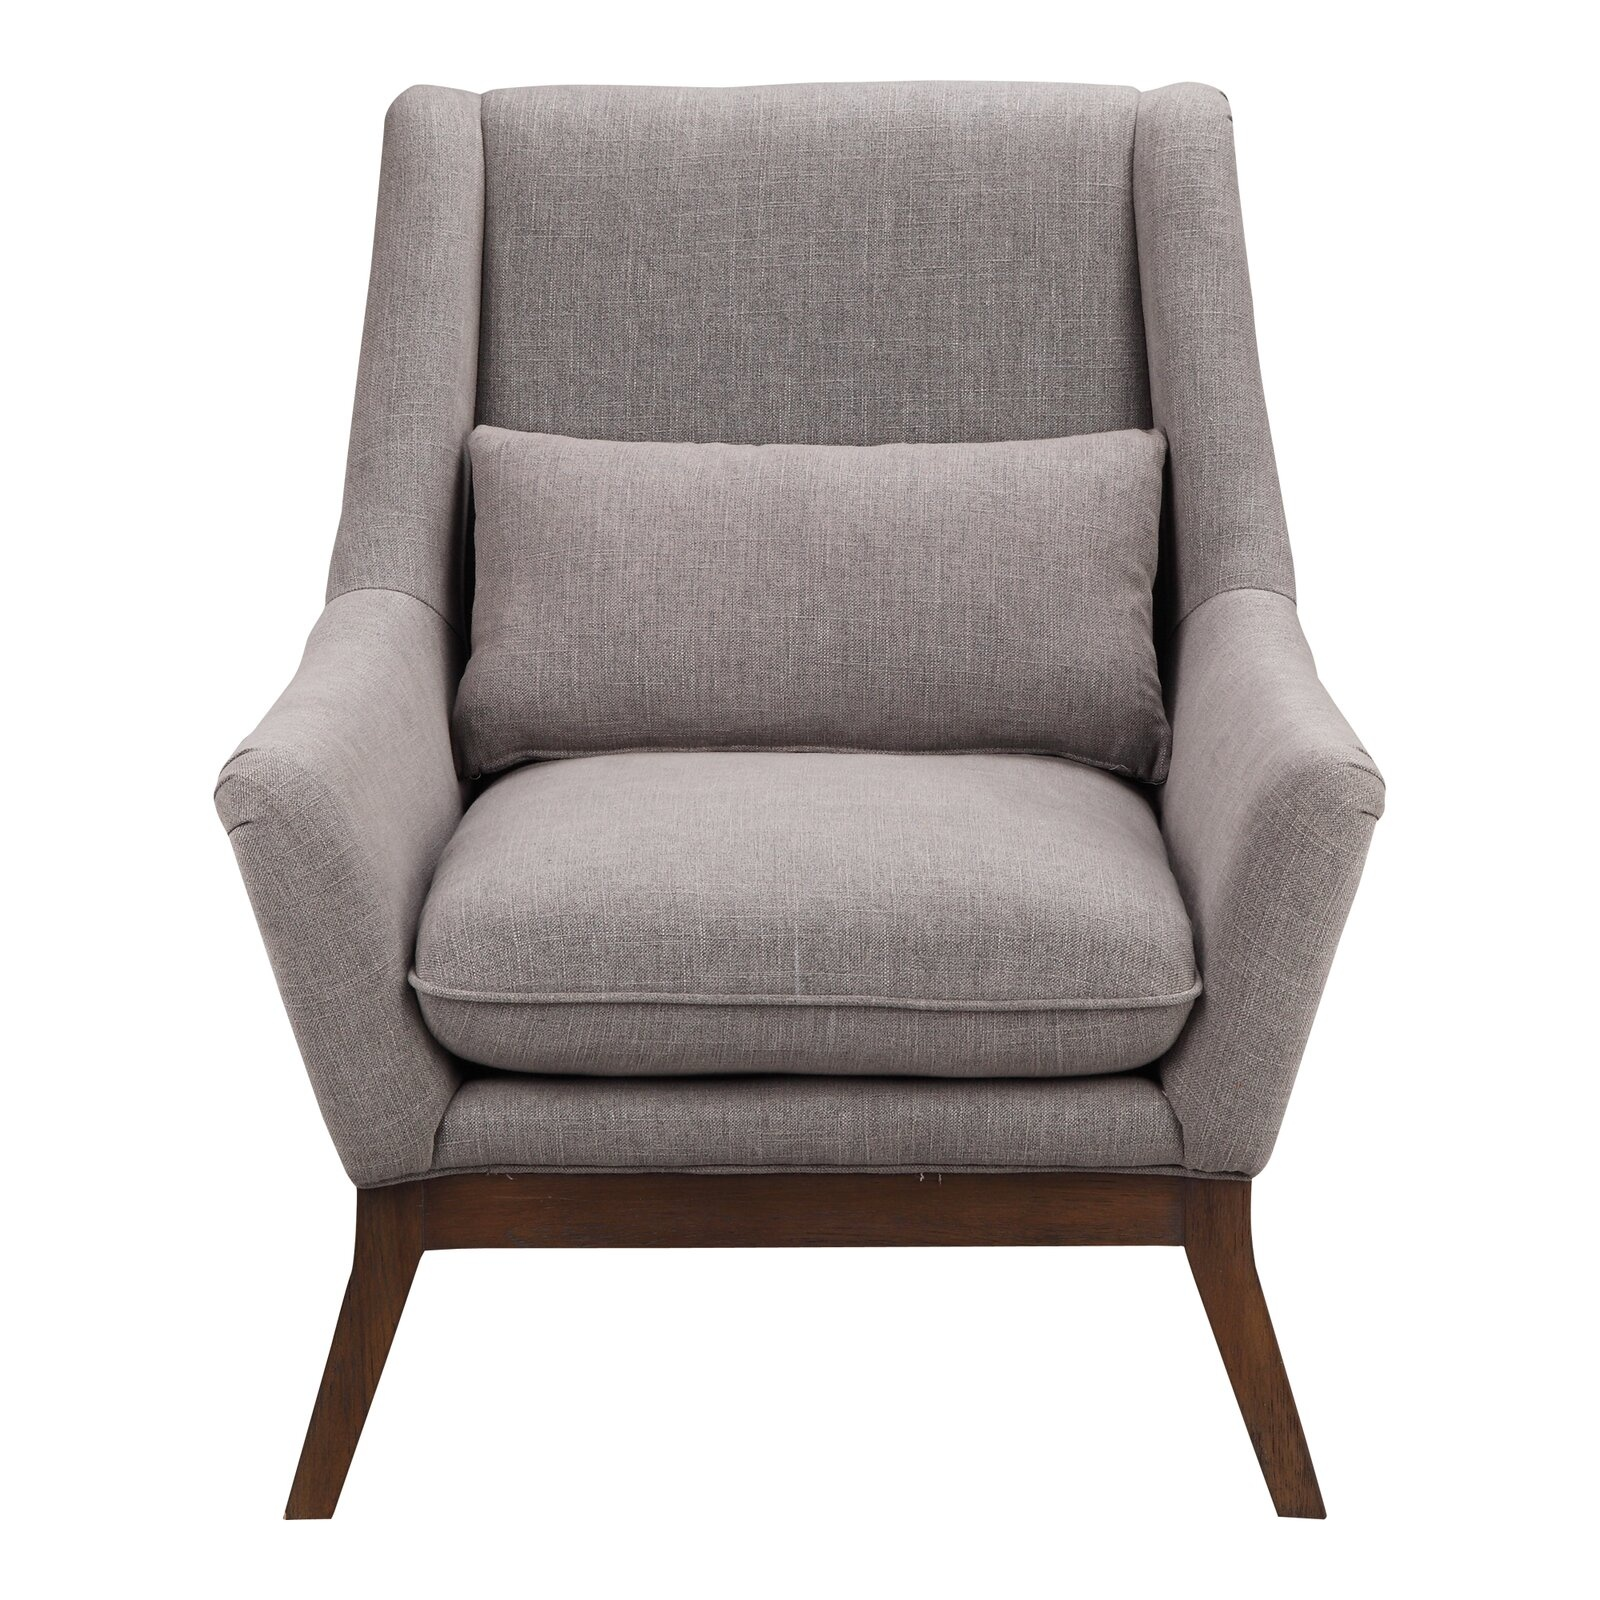obstacle: (215, 84, 1382, 1515)
